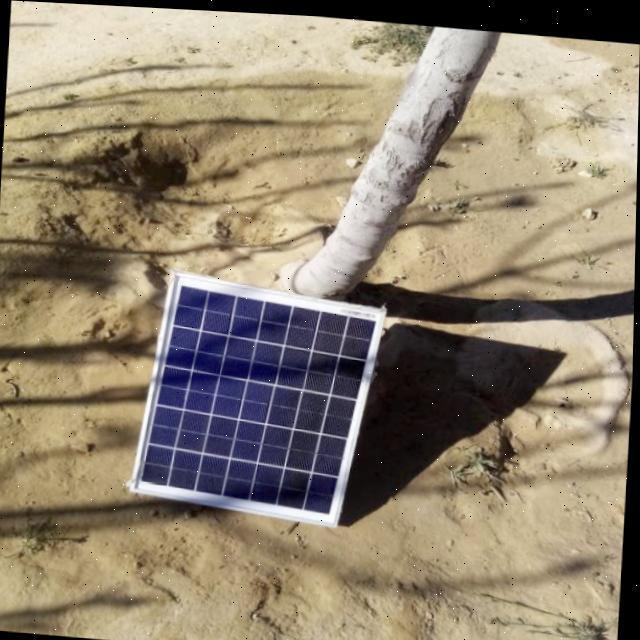Normal Solar Panel: (130, 268, 388, 526)
